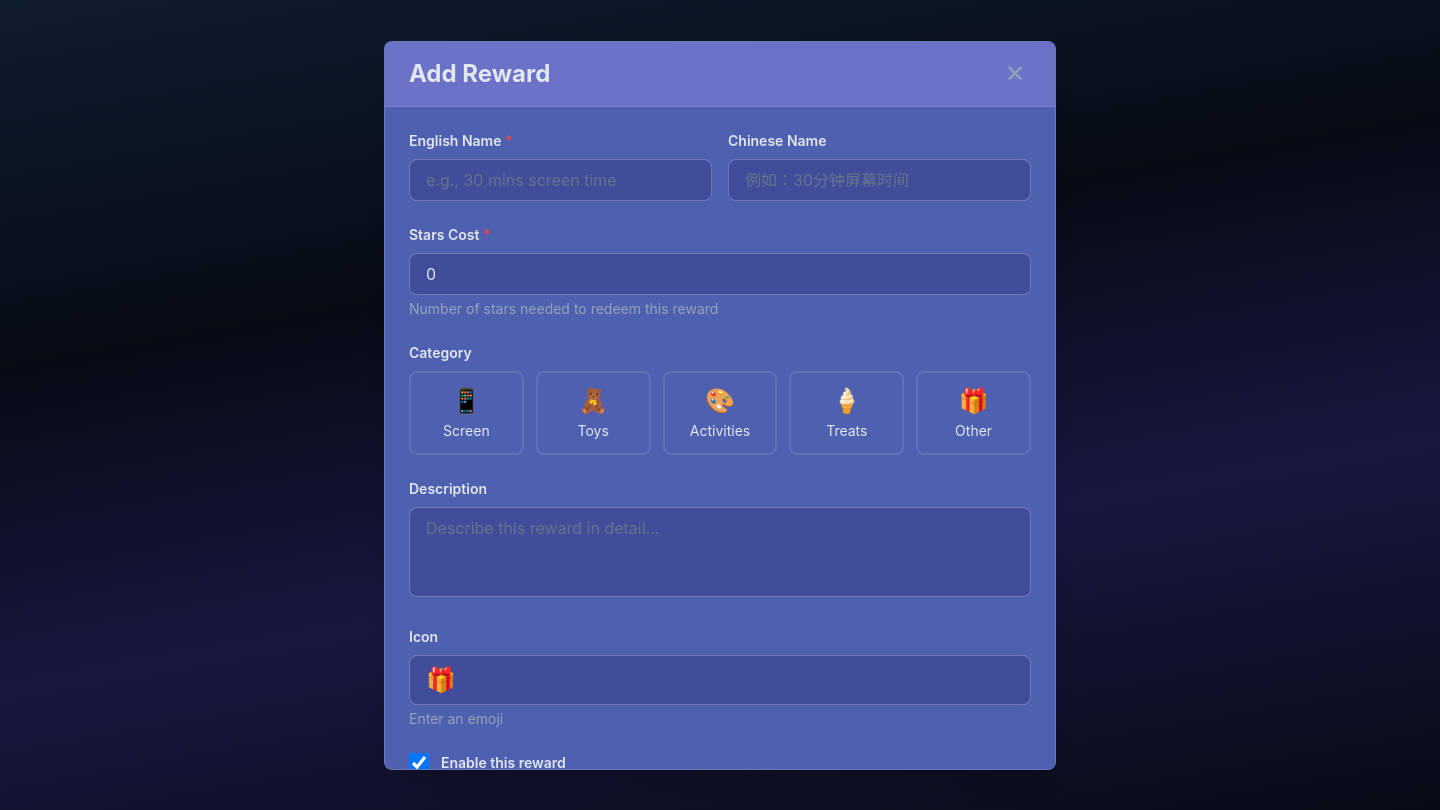
it: RewardFormModal › Form Validation › should show error when stars cost is 0
The width and height of the screenshot is (1440, 810).
Type "Reward" into the field with placeholder "e.g., 30 mins screen time" at (560, 180), box left=409, top=158, right=712, bottom=200
(page scrolled)
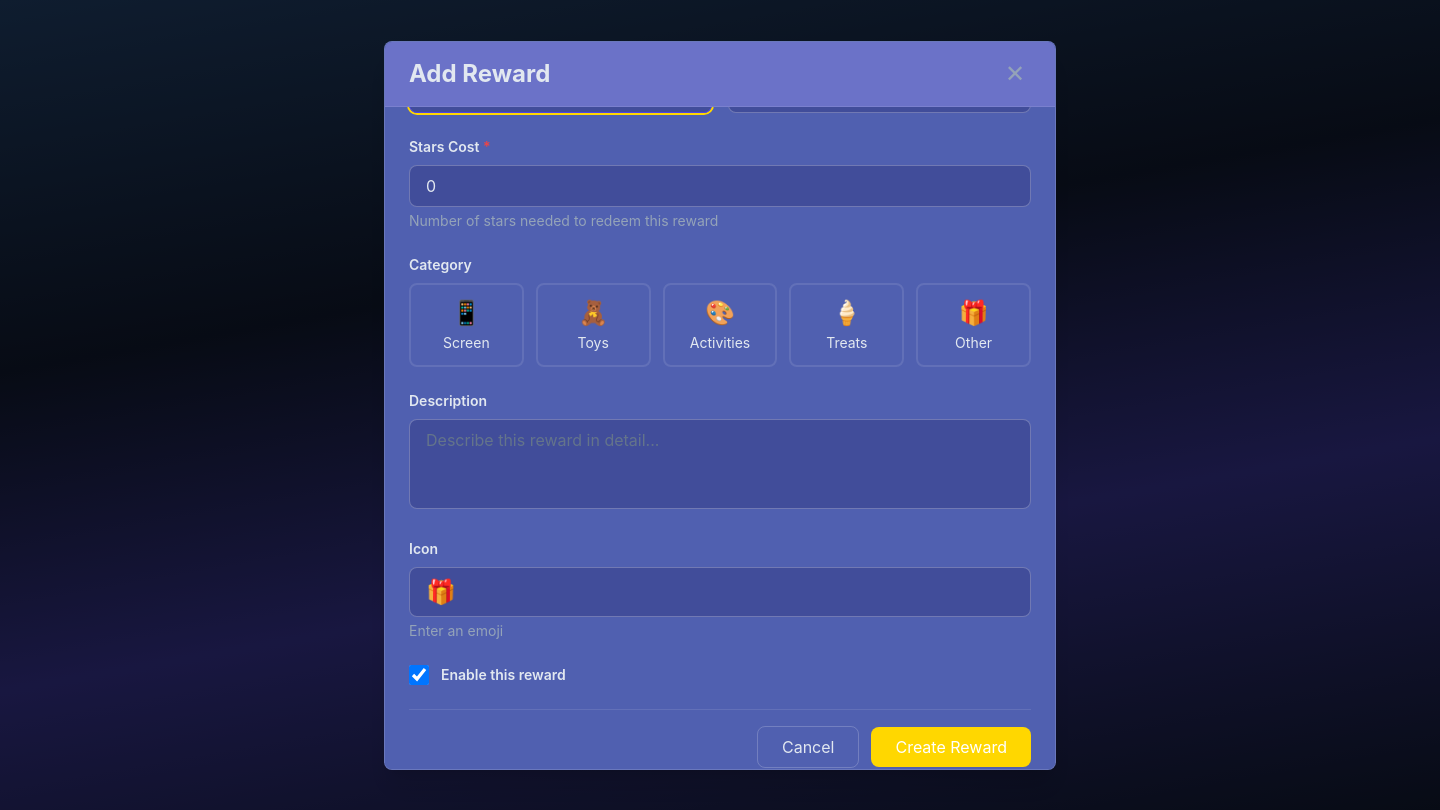
Submit the form named "Create Reward", box left=385, top=18, right=1055, bottom=792
(page scrolled)
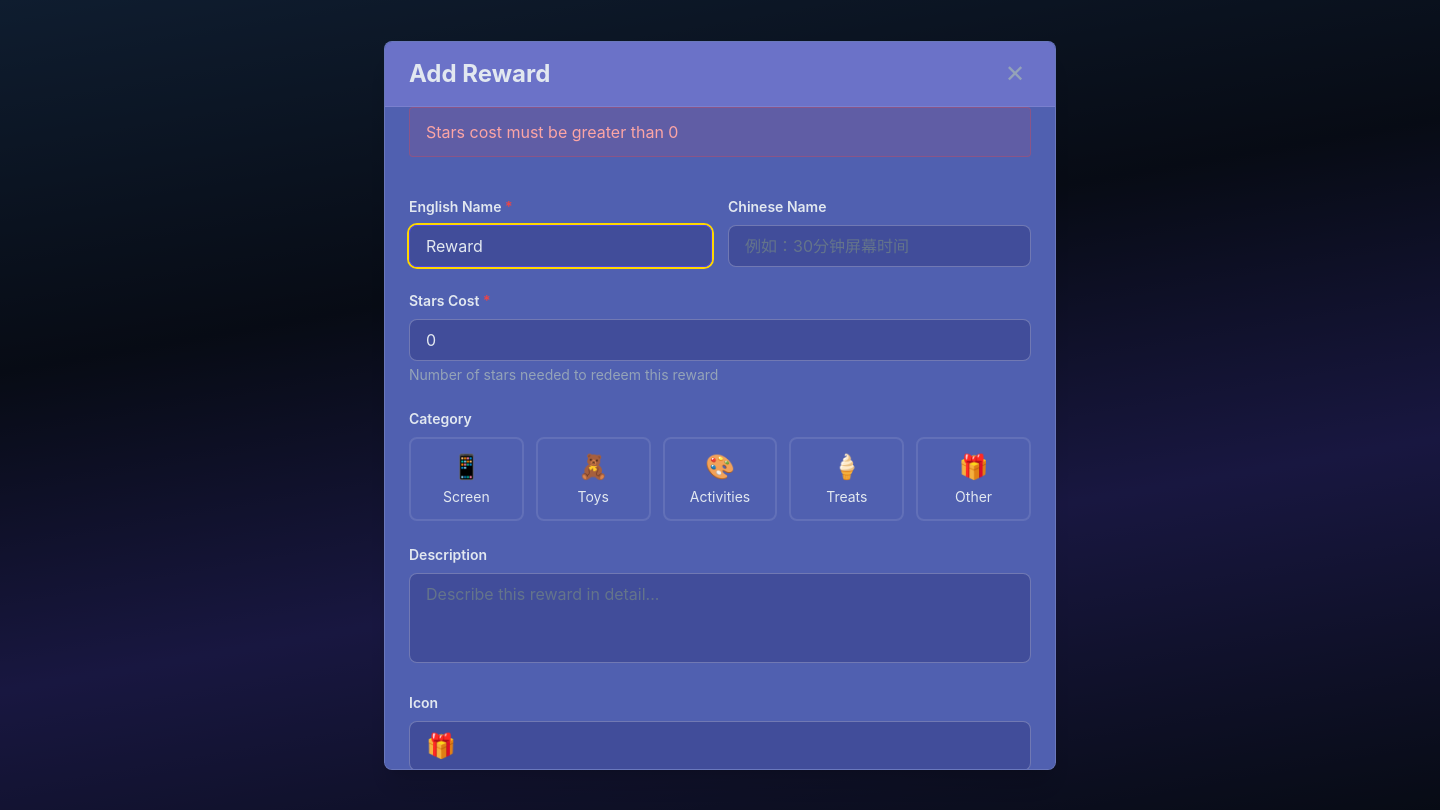
Check: the text "Stars cost must be greater than 0" is shown, box left=409, top=106, right=1031, bottom=156
